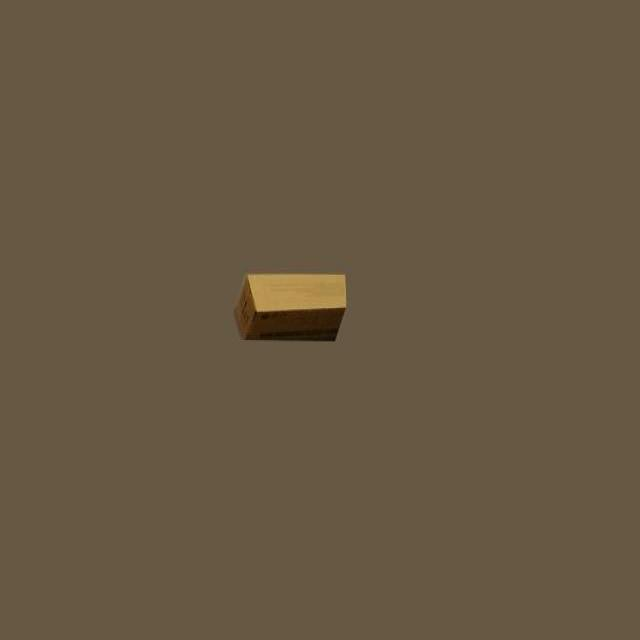Cardboard: (239, 273, 345, 336)
